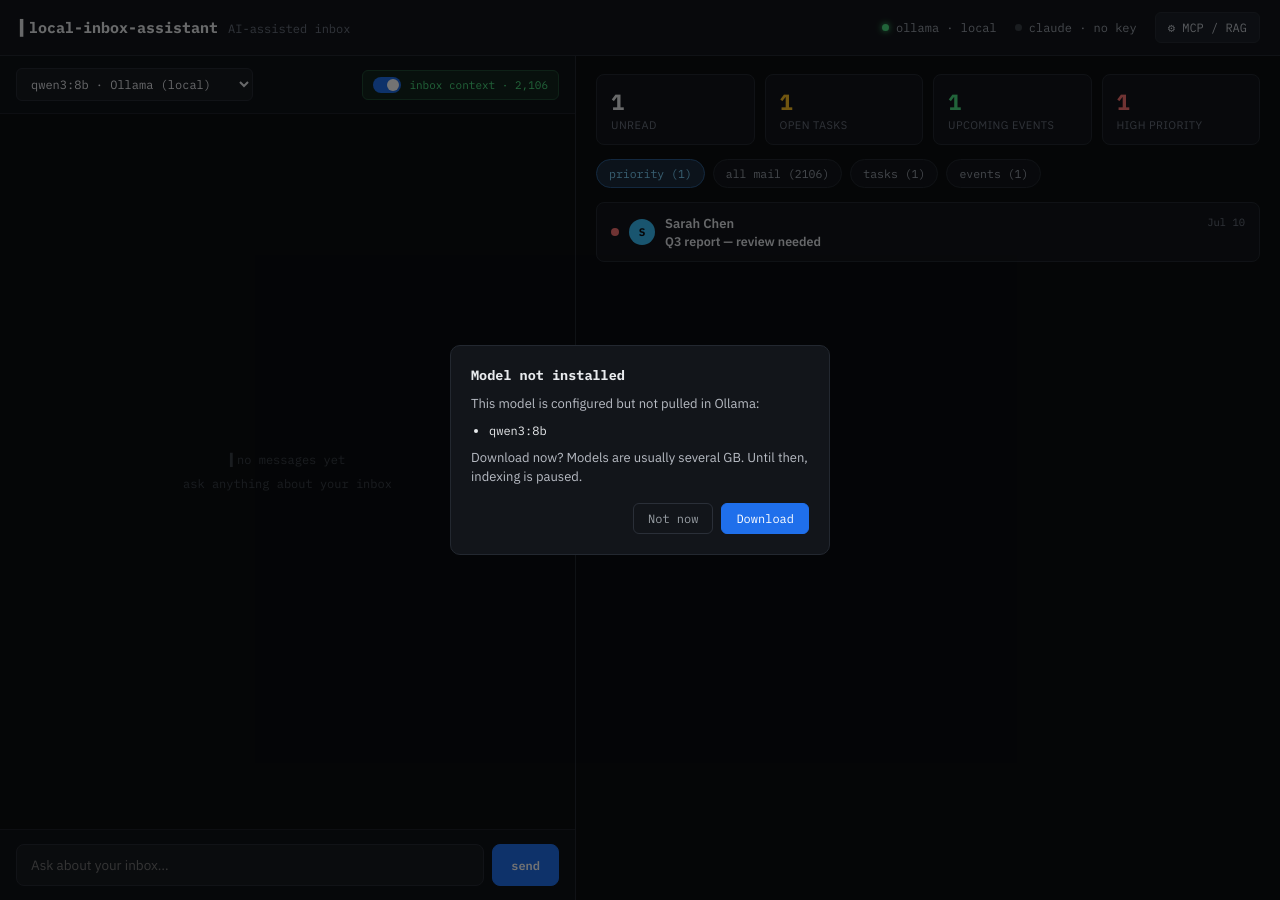
Scenario: model download prompt › asks before downloading a missing model and starts the pull on confirm
The image size is (1280, 900).
Expected: the list item "qwen3:8b" is shown, [489, 423, 547, 438]
Click the button "Download" at (765, 518), box [721, 503, 809, 534]
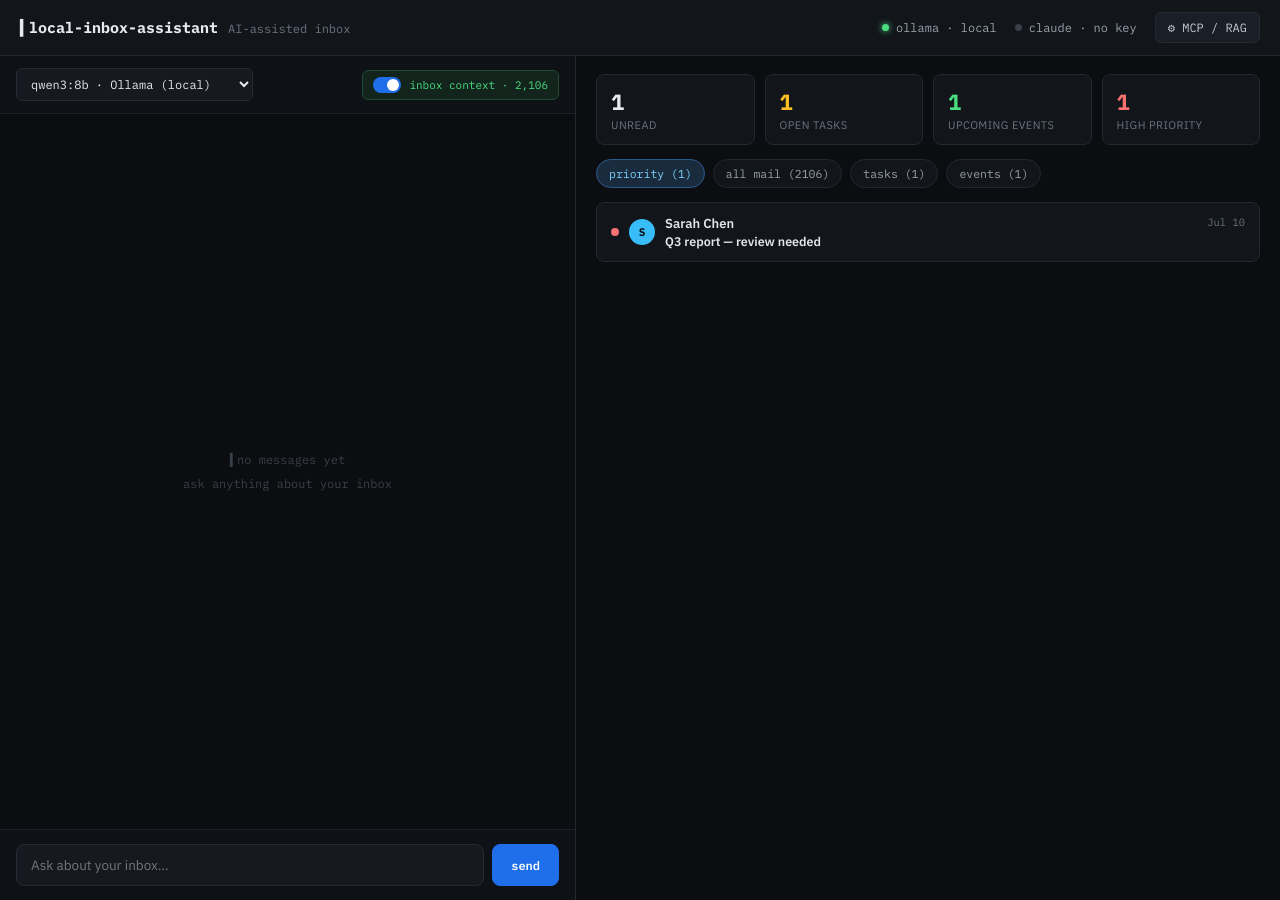
Now the dialog is gone
